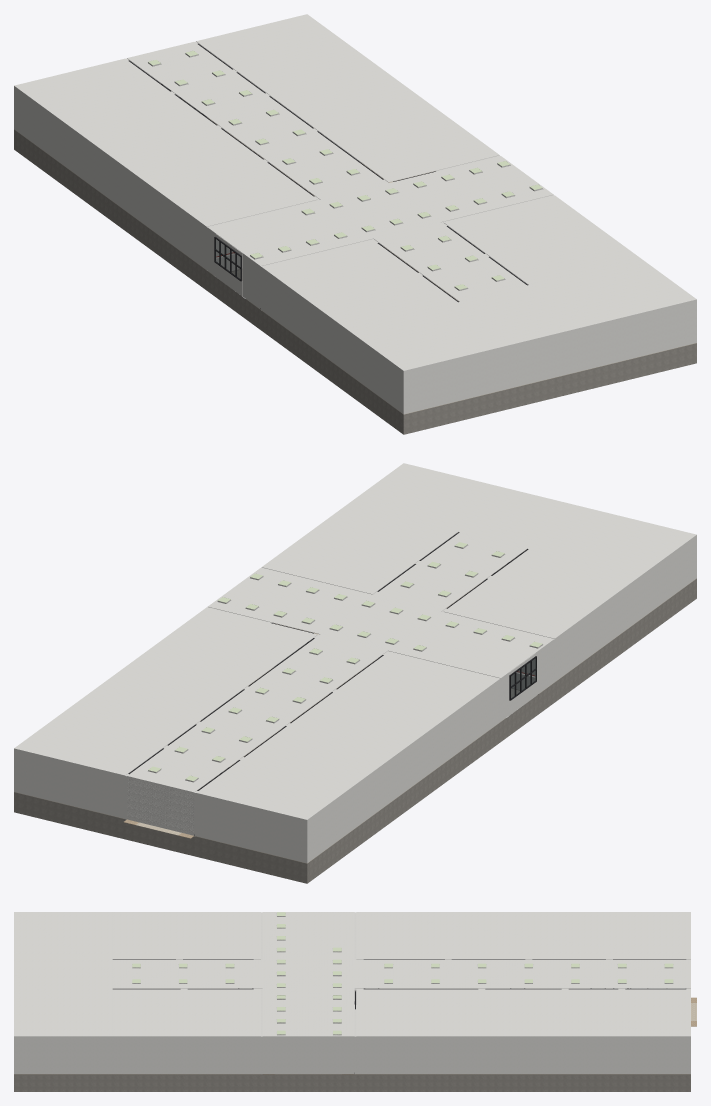
File: CecadecUpper.fbx
The picture shows the model from 3 angles, top to bottom: view 1: azimuth 30°, elevation 25°; view 2: azimuth 150°, elevation 25°; view 3: azimuth 270°, elevation 25°; orthographic projection. The views are drawn at different scales.
Visible parts, largest first — view 1: F2_Lining_Rooms, F2_Ceiling_Rooms_NE, F2_Ceiling_Rooms_NW, Mezz_Perimeter, F2_Ceiling_Rooms_SE, F2_Ceiling_Rooms_SW, F2_Ceiling_Back1, F2_Ceiling_Back2, F2_Ceiling_Band1, F2_Ceiling_Corridor4, F2_Ceiling_Corridor2, F2_Ceiling_Corridor3 (+7 smaller); view 2: F2_Lining_Rooms, F2_Ceiling_Rooms_NW, F2_Ceiling_Rooms_NE, Mezz_Perimeter, F2_Ceiling_Rooms_SE, F2_Ceiling_Rooms_SW, F2_Ceiling_Back1, F2_Ceiling_Back2, F2_Ceiling_Band1, F2_Ceiling_Corridor4, F2_Ceiling_Corridor2, F2_Ceiling_Corridor3 (+8 smaller); view 3: F2_Lining_Rooms, F2_Ceiling_Rooms_NE, F2_Ceiling_Rooms_NW, Mezz_Perimeter, F2_Ceiling_Rooms_SE, F2_Ceiling_Rooms_SW, F2_Ceiling_Back1, F2_Ceiling_Back2, F2_Ceiling_Band1, F2_Lining_Band, F2_Ceiling_Corridor4, F2_Ceiling_Corridor3 (+14 smaller).
Boxes of the visible parts, box(x1,y1,x2,y2) form: F2_Lining_Rooms: box(14, 44, 696, 414); F2_Ceiling_Rooms_NE: box(196, 14, 499, 182); F2_Ceiling_Rooms_NW: box(14, 58, 317, 226); Mezz_Perimeter: box(14, 131, 696, 432); F2_Ceiling_Rooms_SE: box(443, 195, 639, 284); F2_Ceiling_Rooms_SW: box(262, 240, 457, 329); F2_Ceiling_Back1: box(347, 293, 550, 370); F2_Ceiling_Back2: box(494, 258, 696, 335); F2_Ceiling_Band1: box(207, 200, 373, 266); F2_Ceiling_Corridor4: box(261, 139, 387, 199); F2_Ceiling_Corridor2: box(153, 61, 273, 116); F2_Ceiling_Corridor3: box(207, 100, 327, 155); F2_Lining_Rooms: box(14, 535, 696, 863); F2_Ceiling_Rooms_NW: box(196, 652, 499, 819); F2_Ceiling_Rooms_NE: box(14, 607, 317, 775); Mezz_Perimeter: box(14, 580, 696, 881); F2_Ceiling_Rooms_SE: box(261, 504, 457, 594); F2_Ceiling_Rooms_SW: box(443, 549, 639, 638); F2_Ceiling_Back1: box(494, 499, 696, 576); F2_Ceiling_Back2: box(347, 463, 549, 540); F2_Ceiling_Band1: box(388, 612, 553, 678); F2_Ceiling_Corridor4: box(261, 634, 387, 694); F2_Ceiling_Corridor2: box(153, 717, 273, 773); F2_Ceiling_Corridor3: box(207, 678, 327, 733); F2_Lining_Rooms: box(14, 1036, 690, 1073); F2_Ceiling_Rooms_NE: box(356, 989, 690, 1036); F2_Ceiling_Rooms_NW: box(356, 912, 690, 959); Mezz_Perimeter: box(14, 1076, 690, 1090); F2_Ceiling_Rooms_SE: box(112, 989, 260, 1036); F2_Ceiling_Rooms_SW: box(112, 912, 260, 959); F2_Ceiling_Back1: box(14, 912, 112, 974); F2_Ceiling_Back2: box(14, 974, 112, 1036); F2_Ceiling_Band1: box(262, 912, 354, 959); F2_Lining_Band: box(262, 1036, 354, 1073); F2_Ceiling_Corridor4: box(354, 960, 458, 988); F2_Ceiling_Corridor3: box(458, 960, 552, 988).
Bounding box in the file's own units: 19.3 × 4.07 × 44.6.
